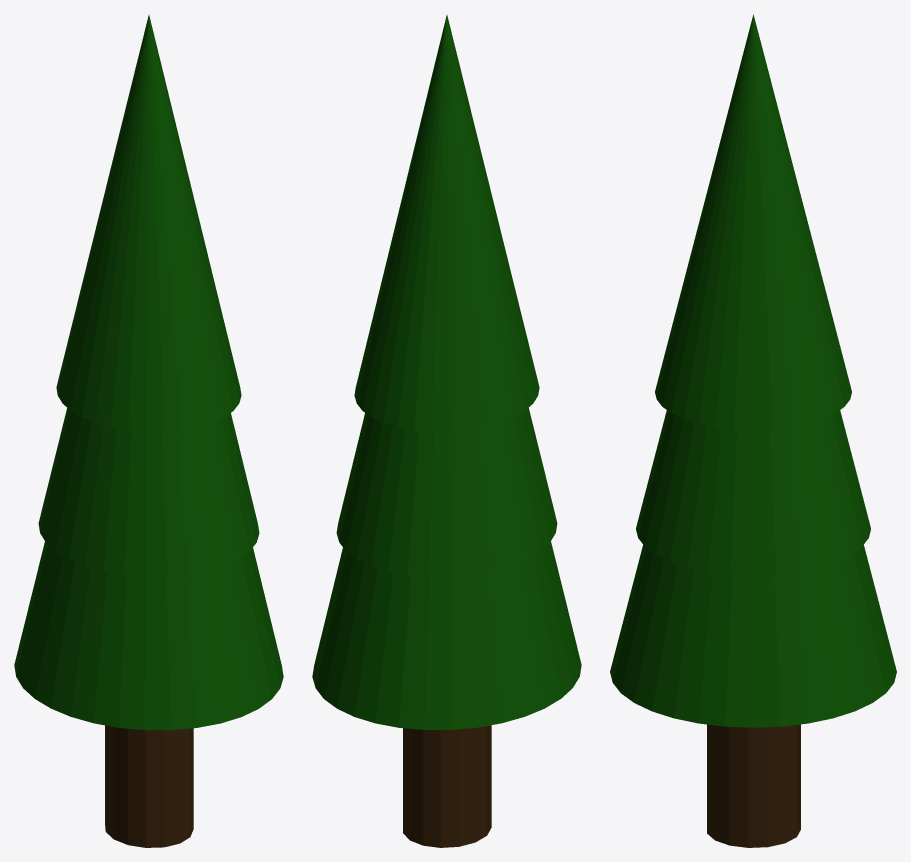
File: tree_3.fbx
3 views of the same model, side by side, from view 1: azimuth 30°, elevation 25°; view 2: azimuth 150°, elevation 25°; view 3: azimuth 270°, elevation 25° (orthographic).
Parts seen in each view (by area): view 1: tree_5; view 2: tree_5; view 3: tree_5.
Part boxes in pixels (x1,y1,x2,y2): tree_5: (14, 15, 283, 847); tree_5: (312, 15, 581, 847); tree_5: (610, 14, 896, 847).
Bounding box in the file's own units: 1366 × 4656 × 1485.
